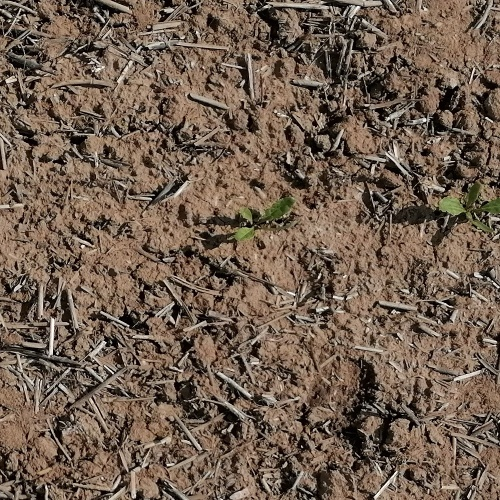beet: (233, 196, 295, 243), (437, 186, 500, 231)
